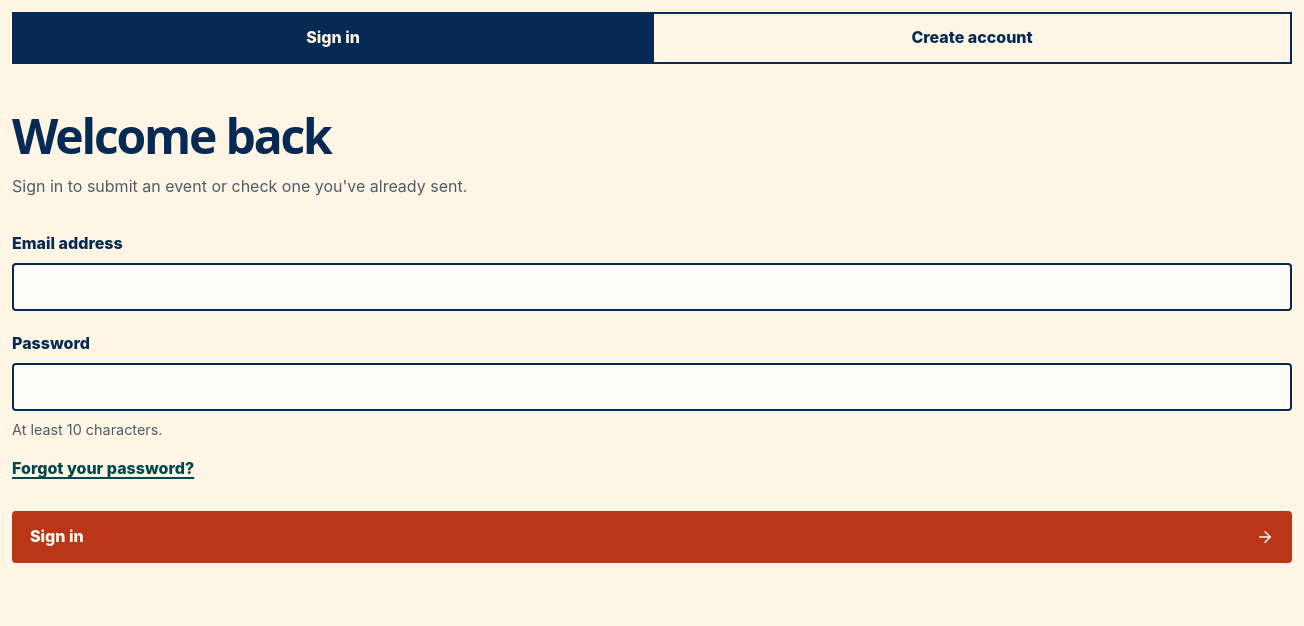
Test: AuthForm › focuses and associates a password error returned by the account service
Type "person@example.com" into the field labelled "Email address".
click(652, 287); type("person@example.com")  # box [12, 263, 1292, 311]
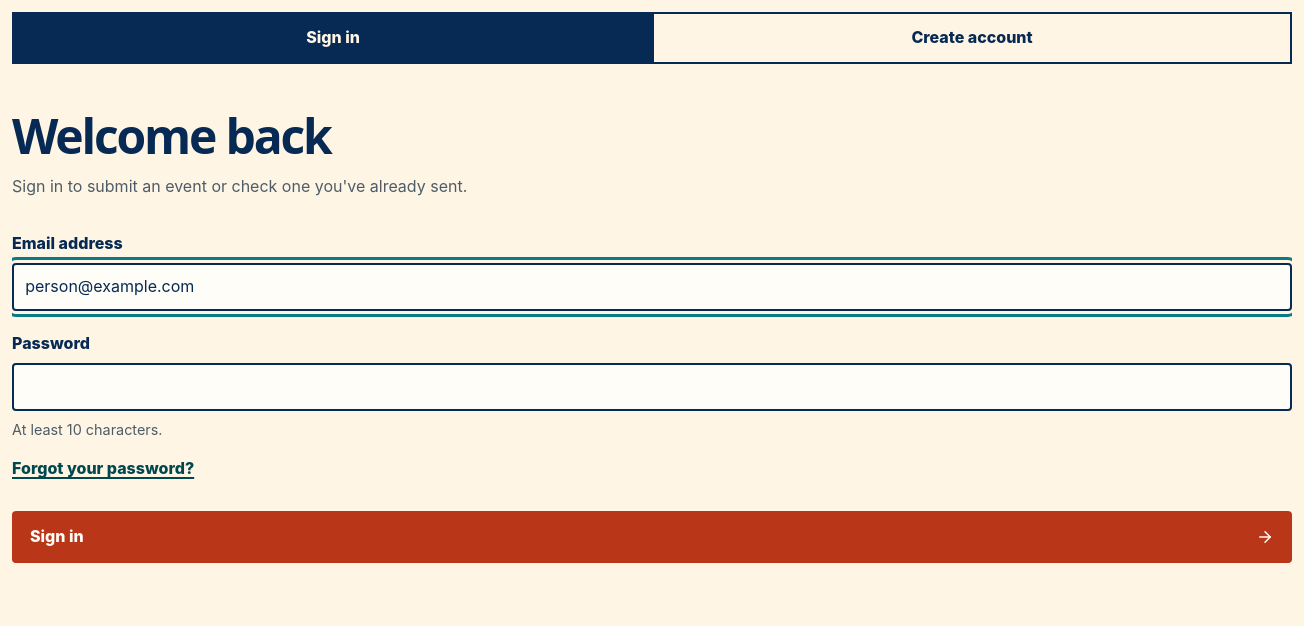
Type "correct horse" into the password field labelled "Password".
click(652, 387); type("correct horse")  # box [12, 363, 1292, 411]
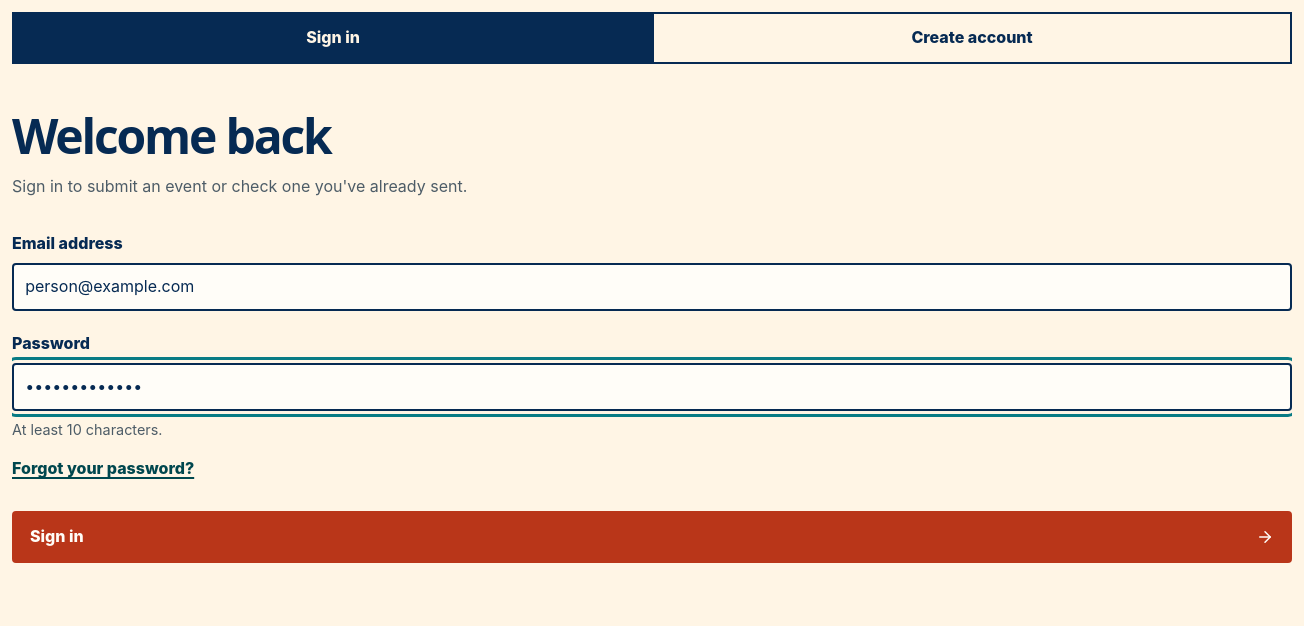
Click the button "Sign in" below "At least".
click(57, 536)  # box [12, 511, 1292, 563]
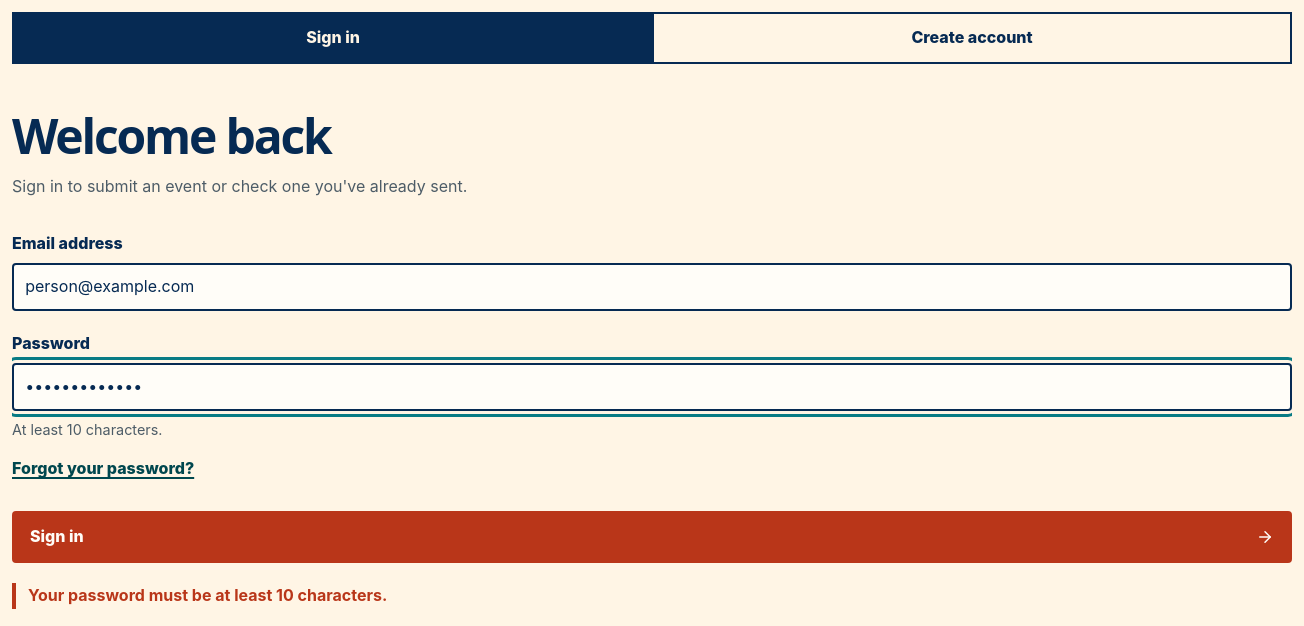
Expected: the message reads "Your password must be at least 10 characters.", [28, 585, 387, 605]
